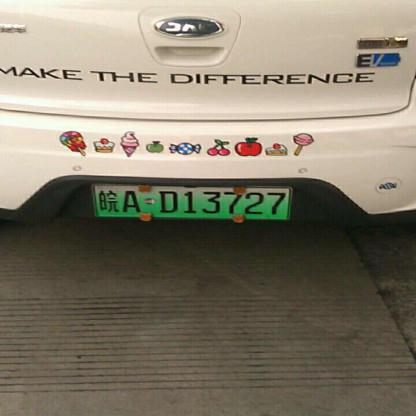lp: (93, 184, 289, 218)
